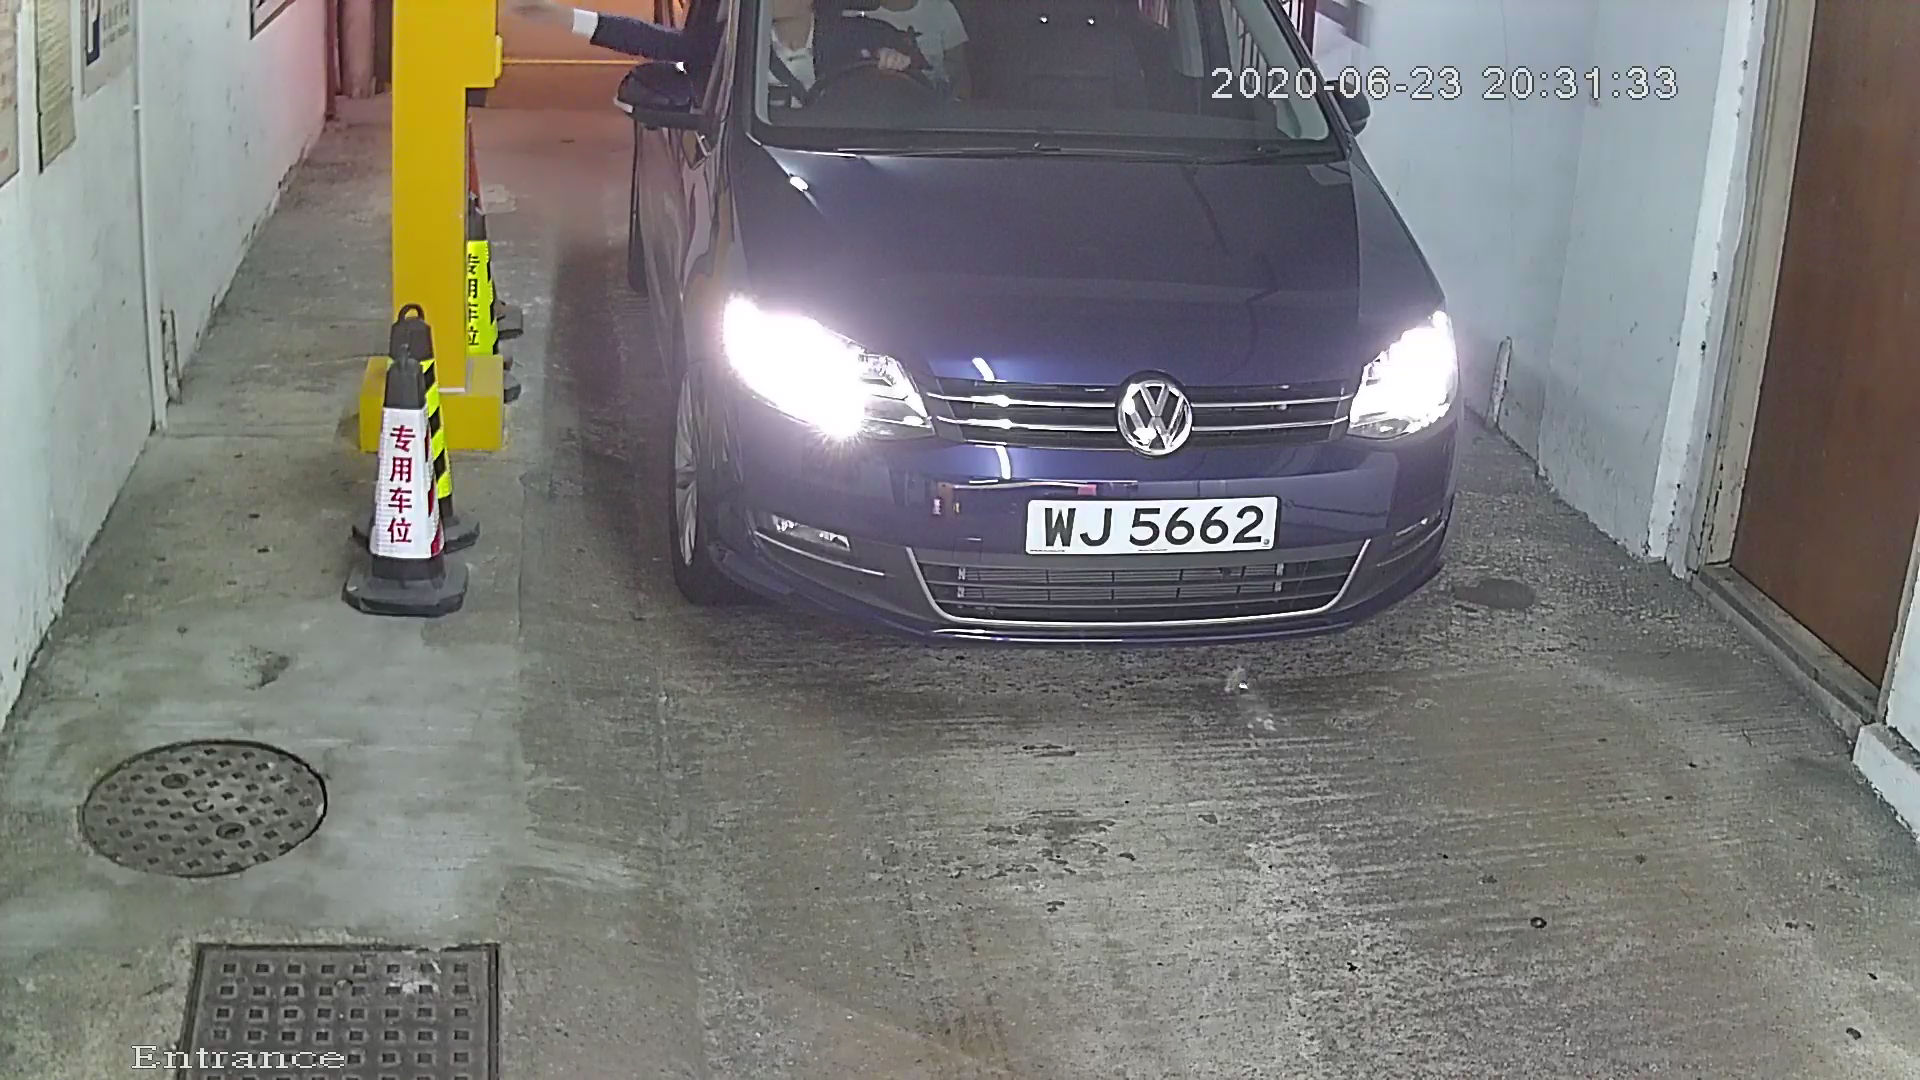privatecar: (601, 3, 1469, 683)
